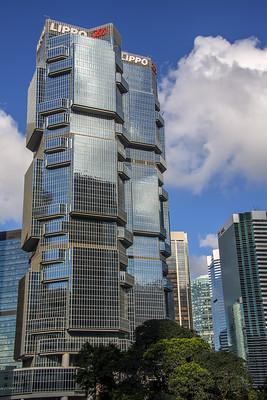building: (20, 15, 176, 378)
